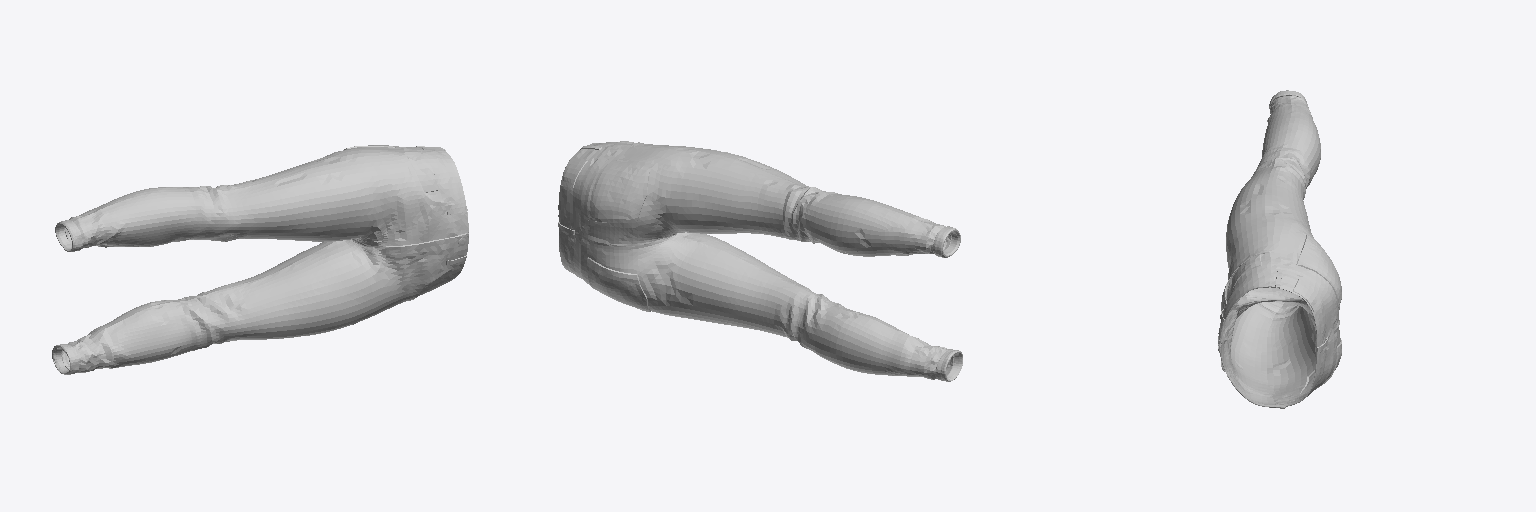
Rendered from legs.obj.
3 renders of one model, left to right at view 1: azimuth 30°, elevation 25°; view 2: azimuth 150°, elevation 25°; view 3: azimuth 270°, elevation 25°, orthographic.
Parts seen in each view (by area): view 1: Legs_UV1; view 2: Legs_UV1; view 3: Legs_UV1.
Boxes of the visible parts, x1=… form: Legs_UV1: x1=52, y1=145, x2=468, y2=374; Legs_UV1: x1=558, y1=141, x2=962, y2=381; Legs_UV1: x1=1218, y1=90, x2=1341, y2=408.
Size of the model in its own units: 0.8187 by 0.3429 by 0.23.